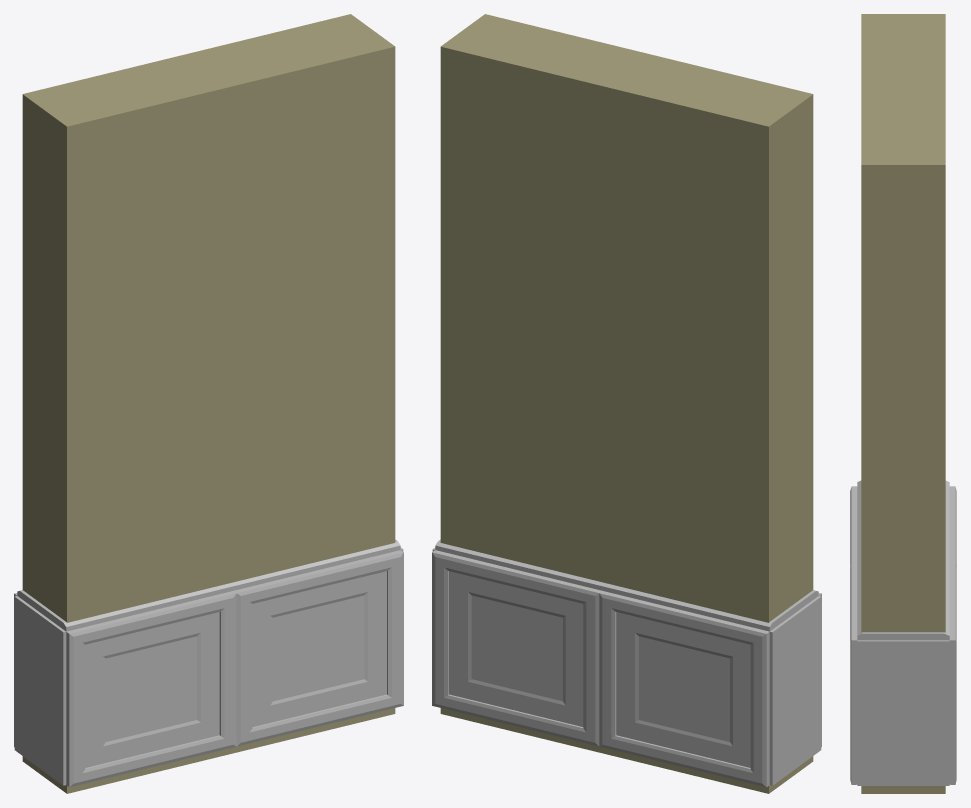
File: PillarDouble.fbx
3 renders of one model, left to right at view 1: azimuth 30°, elevation 25°; view 2: azimuth 150°, elevation 25°; view 3: azimuth 270°, elevation 25°, orthographic. The views are drawn at different scales.
Visible parts, largest first — view 1: PillarDouble; view 2: PillarDouble; view 3: PillarDouble.
Boxes of the visible parts, x1,y1,x2,y2 form: PillarDouble: (14,14,403,793); PillarDouble: (432,14,821,793); PillarDouble: (850,14,956,793).
Bounding box in the file's own units: 323 × 605 × 92.59.
